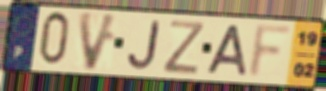0: (37, 9, 73, 71)
A: (204, 23, 250, 77)
F: (245, 23, 296, 81)
J: (125, 18, 162, 71)
V: (77, 10, 121, 74)
Z: (161, 18, 207, 76)
